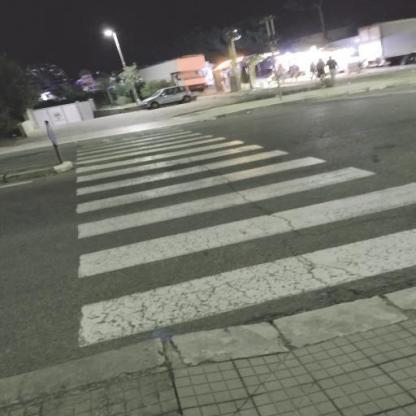crosswalk: (73, 156, 416, 243)
